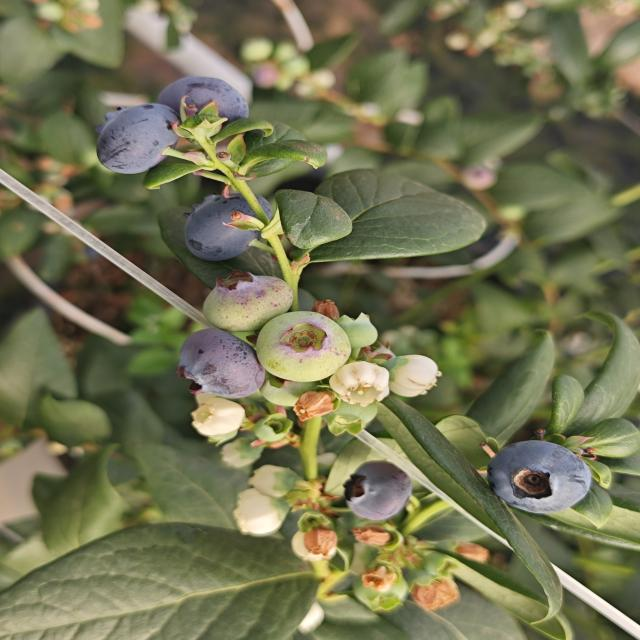ripe: (483, 438, 594, 516), (180, 190, 275, 264), (92, 102, 184, 177), (174, 327, 266, 401), (154, 74, 252, 128), (339, 459, 415, 524)
